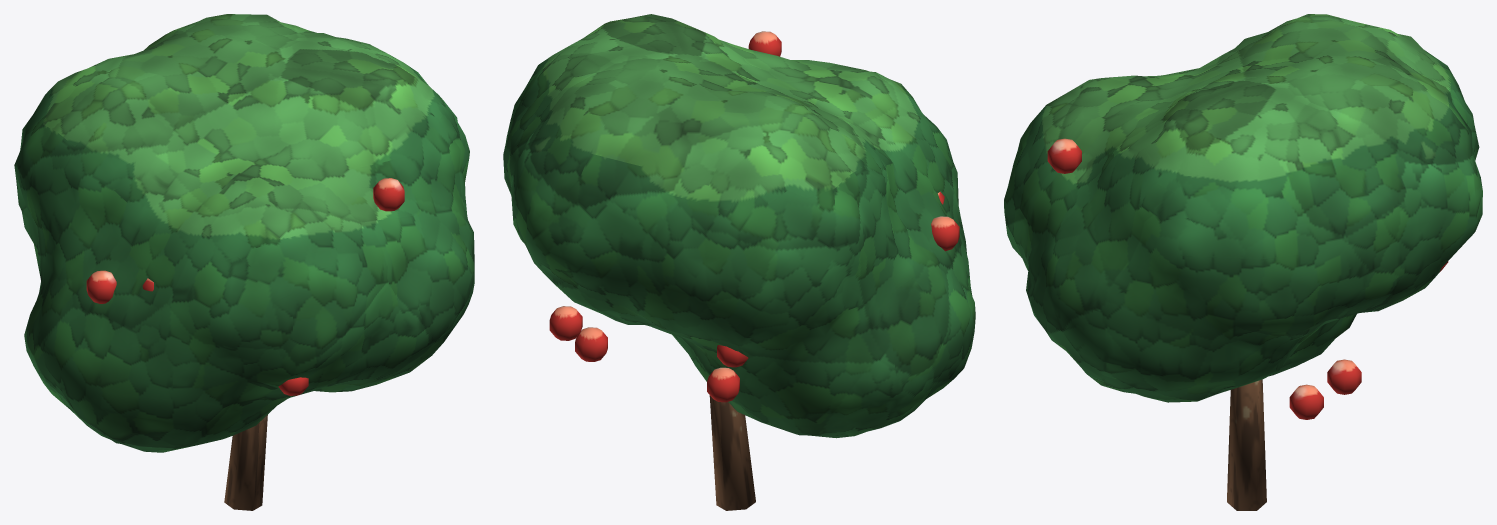
Rendered from coffee_bush.glb.
The picture shows the model from 3 angles, left to right: view 1: azimuth 30°, elevation 25°; view 2: azimuth 150°, elevation 25°; view 3: azimuth 270°, elevation 25°; orthographic projection. The views are drawn at different scales.
Visible parts, largest first — view 1: Coffee; view 2: Coffee; view 3: Coffee.
Part boxes in pixels (box(x1,y1,x2,y2)): Coffee: box(14, 14, 474, 510); Coffee: box(503, 14, 975, 510); Coffee: box(1004, 14, 1482, 510).
Bounding box in the file's own units: 1.23 × 1.25 × 1.19.
Materials: 1 (1 with a texture image).
